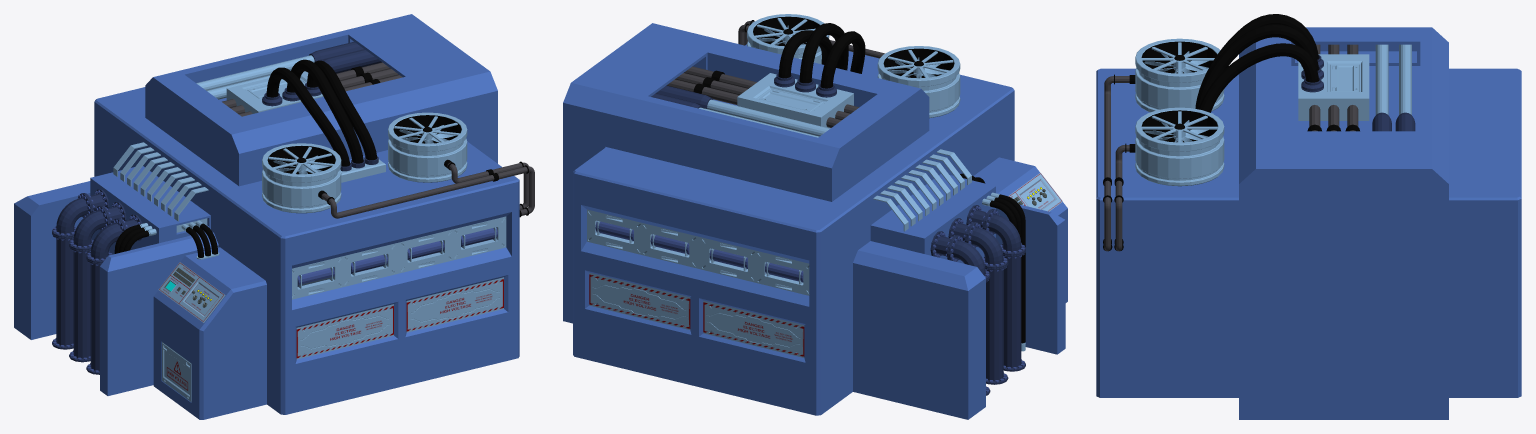
Rendered from M6_Style_B_Light.fbx.
3 renders of one model, left to right at view 1: azimuth 30°, elevation 25°; view 2: azimuth 150°, elevation 25°; view 3: azimuth 270°, elevation 25°, orthographic. The views are drawn at different scales.
Parts seen in each view (by area): view 1: M6; view 2: M6; view 3: M6.
Part boxes in pixels (x1=…): M6: x1=14, y1=14, x2=534, y2=419; M6: x1=563, y1=14, x2=1067, y2=419; M6: x1=1096, y1=14, x2=1521, y2=419.
Bounding box in the file's own units: 665 × 438 × 560.
